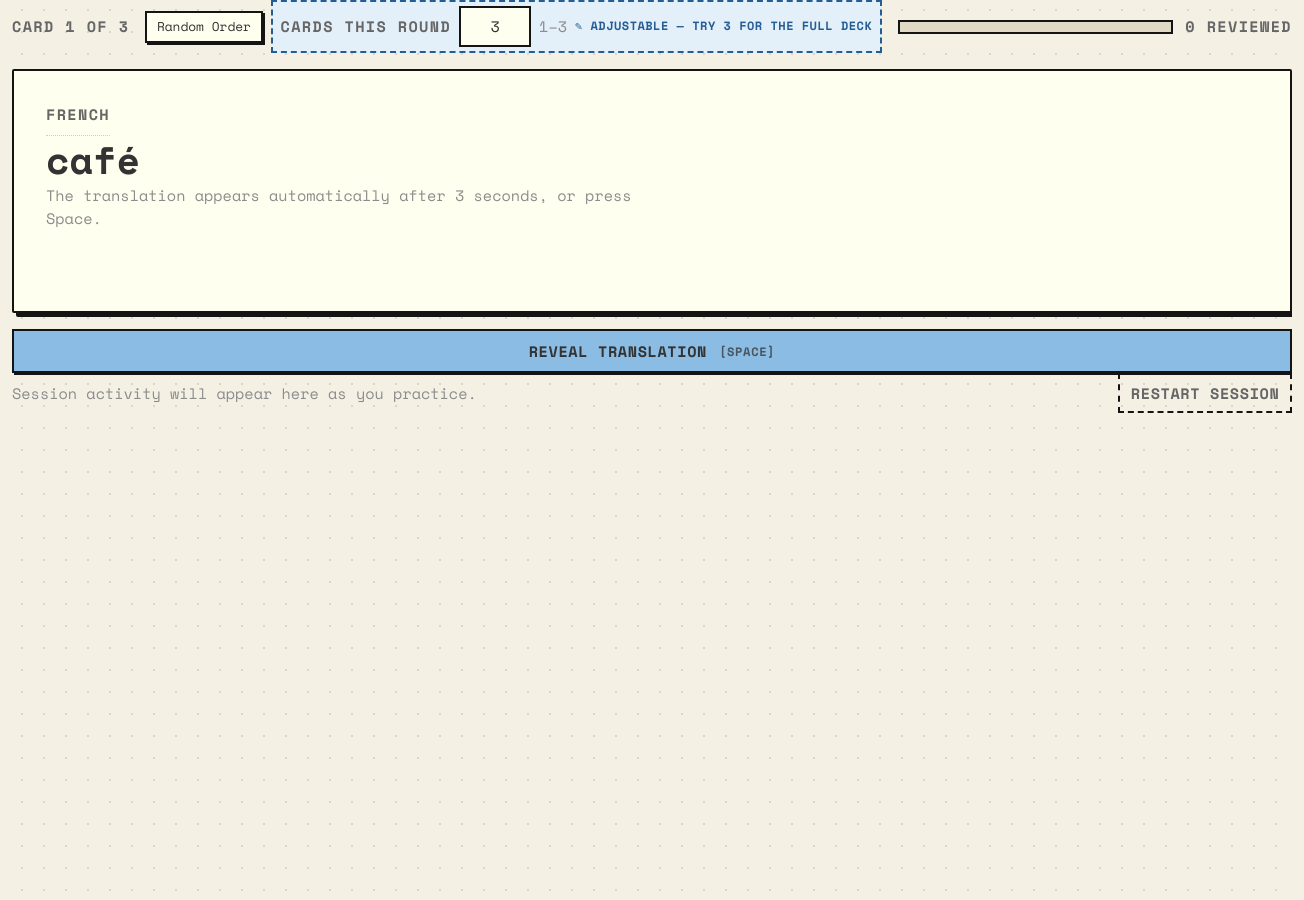
Scenario: game modes with animations enabled › flashcards reveal, self-assess and announce accurately
Expected: the text "café" is shown, [46,131,140,188]
Click the button "Reveal translation [Space]" at x=652, y=351, box [12,329,1292,374]
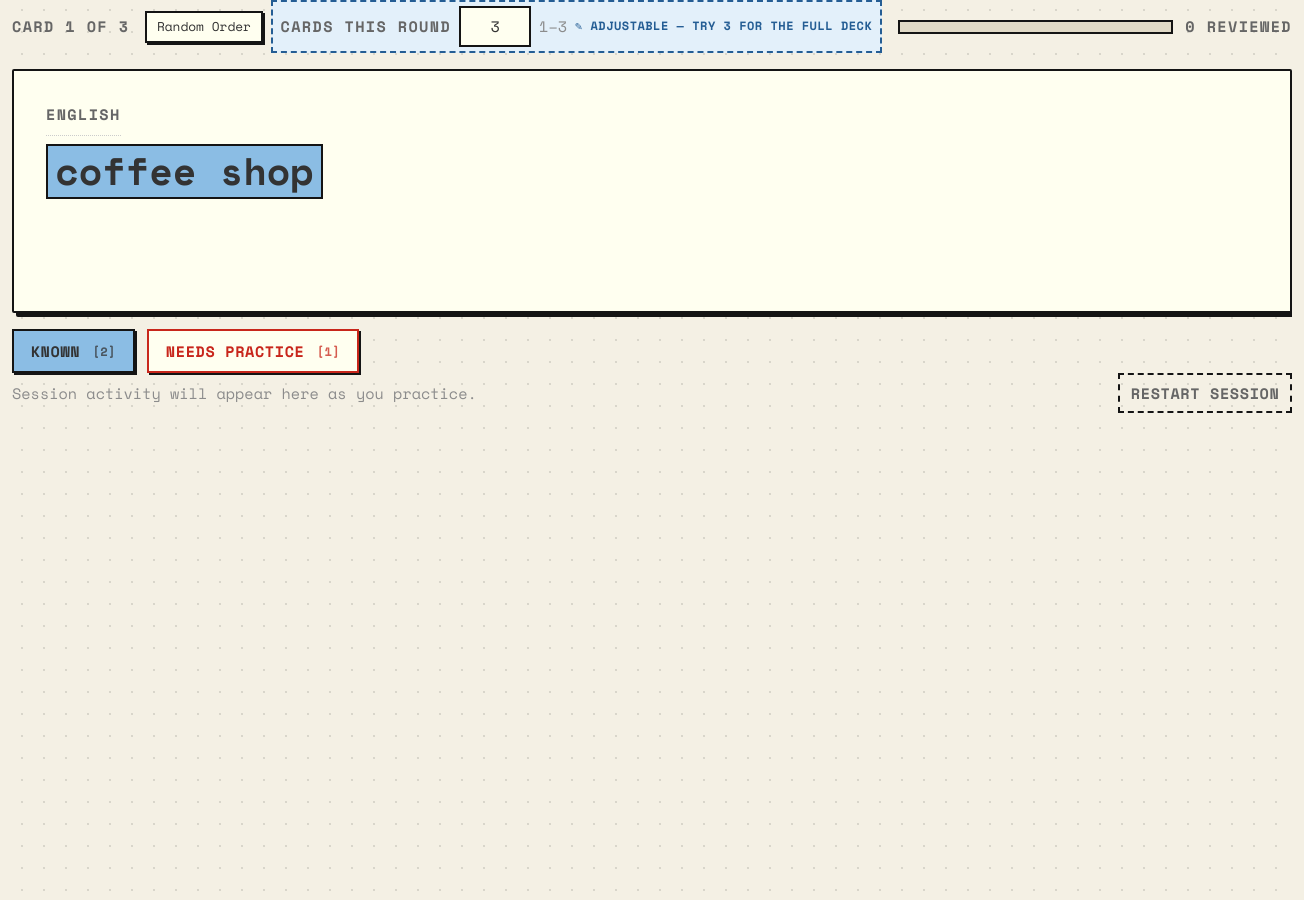
Expected: the text "coffee shop" is shown, [46,144,323,199]
Click the button "Known [2]" at x=74, y=351, box [12,329,135,374]
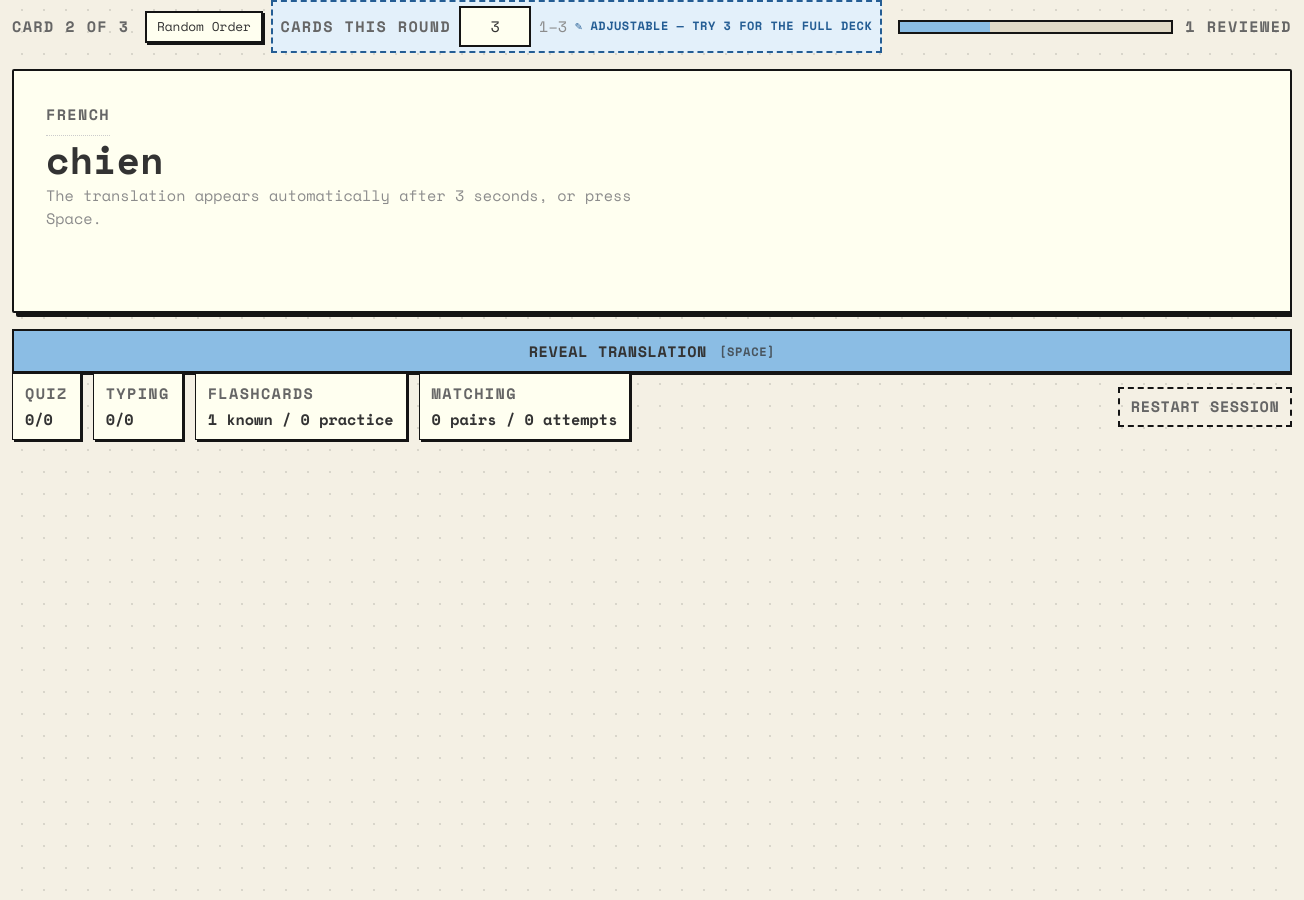
Result: the element named "Session statistics" shows "1 known / 0 practice" at [208,408,394,430]
